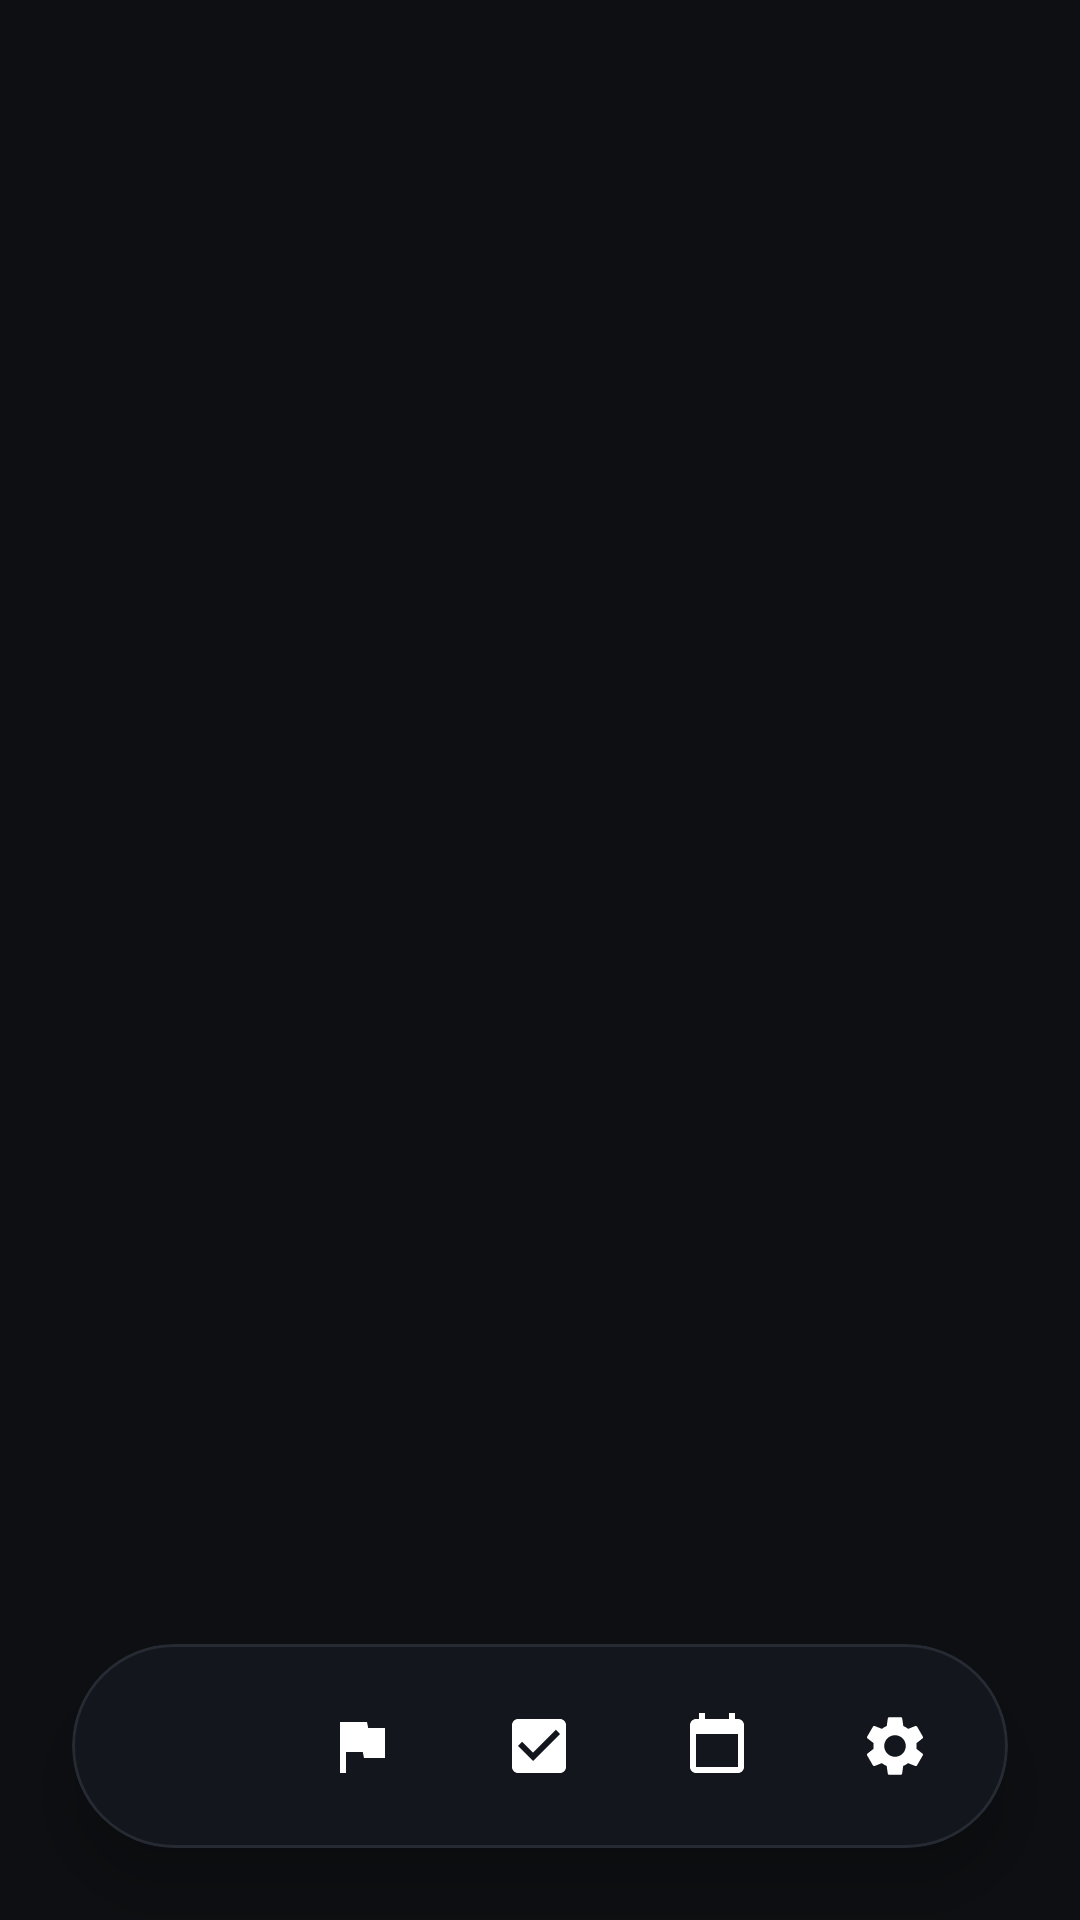

Named icons in this screenshot (1080 × 1920) and their bounding boxes, [x1,y1,x2,y2]:
calendar: [690,1713,744,1773]
check: [512,1719,566,1773]
flag: [340,1722,385,1773]
settings: [867,1717,923,1775]
